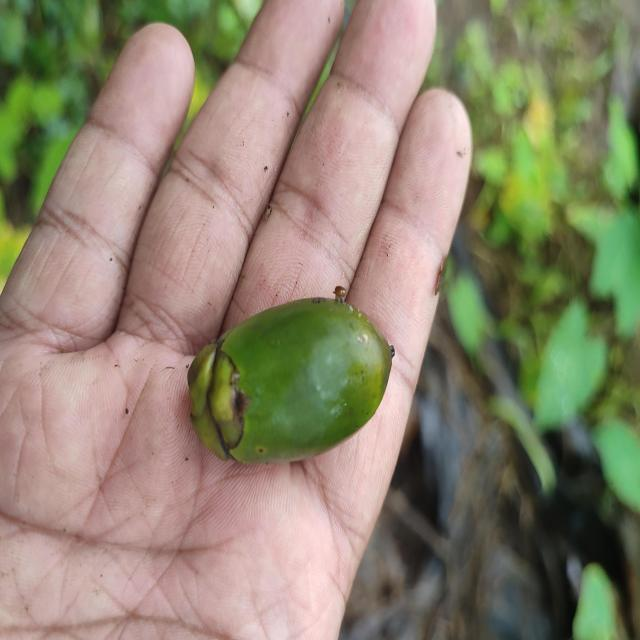damaged: (184, 296, 395, 466)
